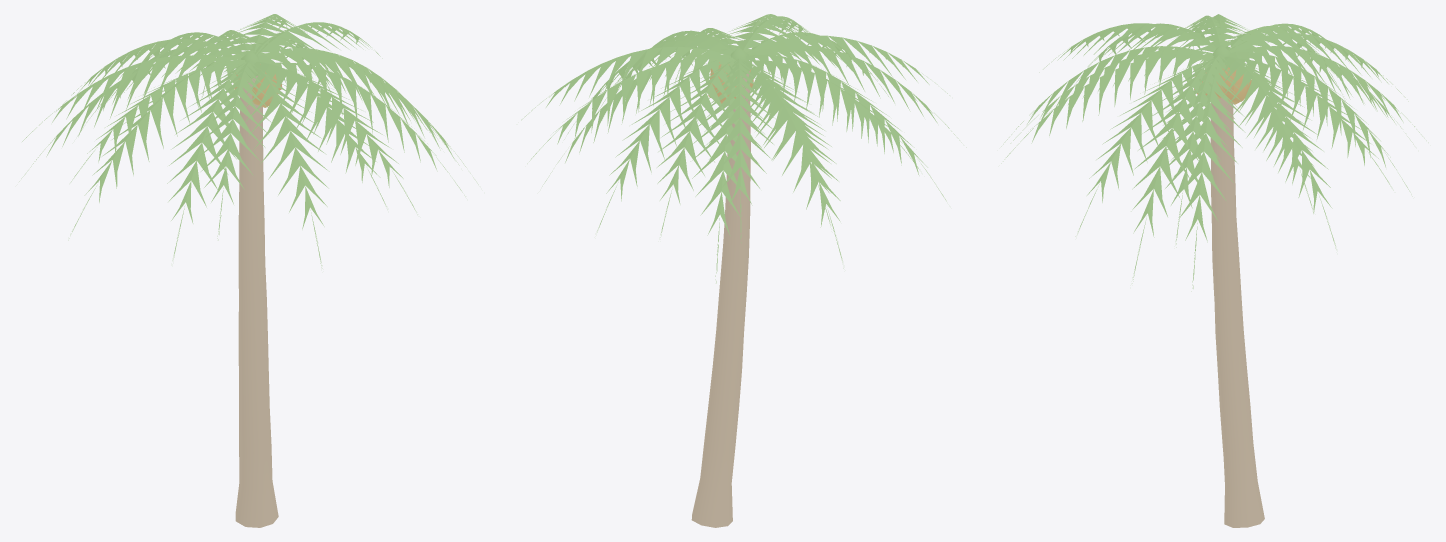
Rendered from Blender_Palm_3.glb.
3 renders of one model, left to right at view 1: azimuth 30°, elevation 25°; view 2: azimuth 150°, elevation 25°; view 3: azimuth 270°, elevation 25°, orthographic. The views are drawn at different scales.
Visible parts, largest first — view 1: Blender_Palm_3; view 2: Blender_Palm_3; view 3: Blender_Palm_3.
Part boxes in pixels (x1=…): Blender_Palm_3: x1=19, y1=14, x2=478, y2=527; Blender_Palm_3: x1=521, y1=14, x2=966, y2=527; Blender_Palm_3: x1=1001, y1=14, x2=1428, y2=527.
Size of the model in its own units: 14.76 by 16.96 by 14.21.
